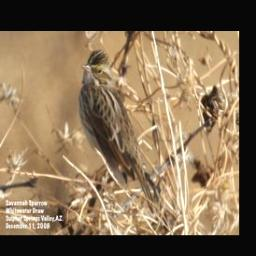Sparrow: (77, 48, 161, 217)
